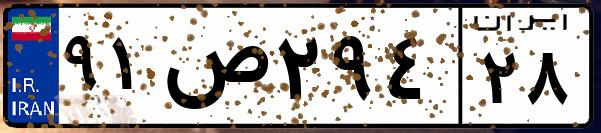1: (110, 28, 158, 98)
2: (270, 28, 330, 110), (475, 38, 525, 113)
4: (385, 28, 445, 110)
8: (525, 38, 570, 115)
9: (330, 28, 385, 110), (57, 26, 110, 100)
ص: (158, 20, 270, 120)
